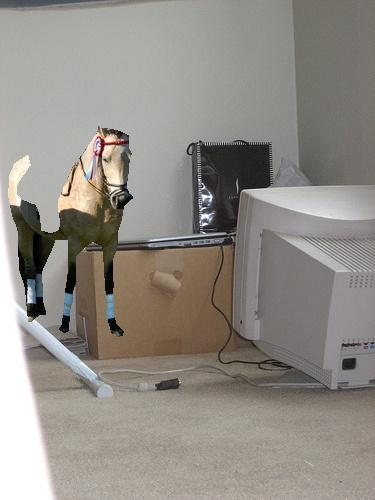tampered: (9, 127, 133, 337)
